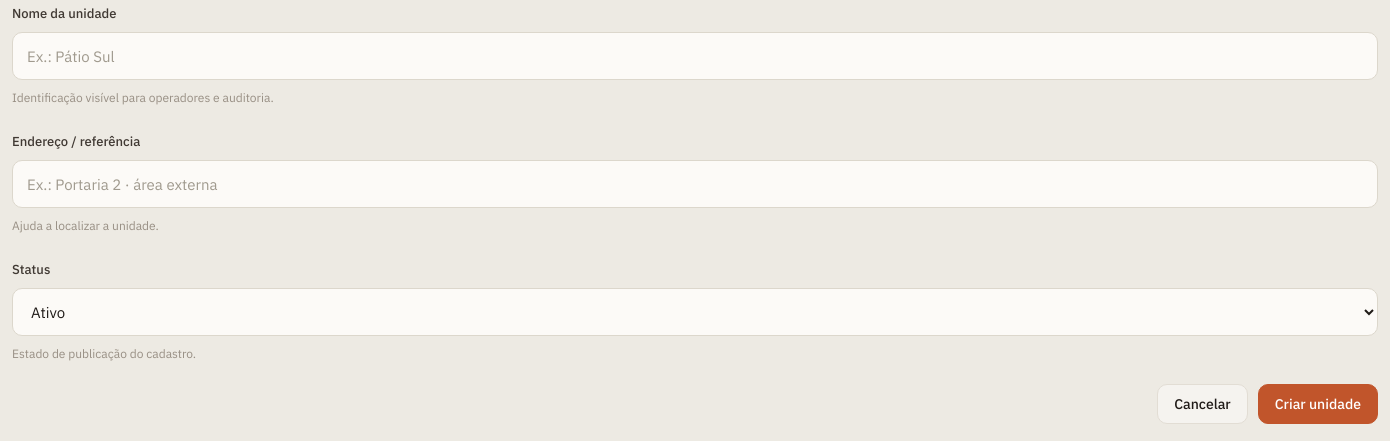
SiteForm › blocks invalid submit with field message
Click the button "Criar unidade" at [1318, 404], box [1258, 384, 1378, 424]
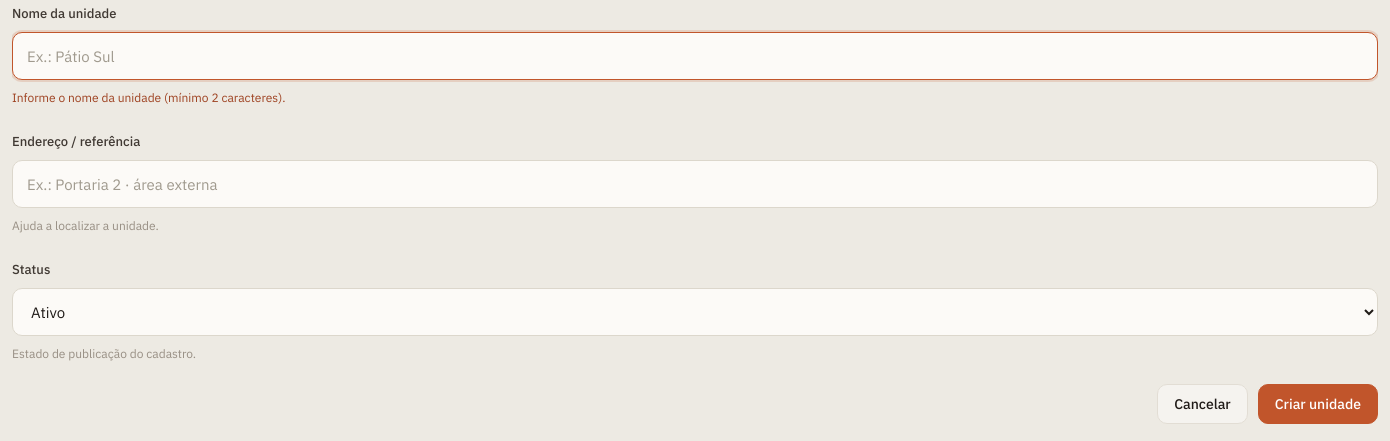
Expected: the text "Informe o nome da unidade (mínimo 2 caracteres)." is shown, [12, 90, 286, 105]
